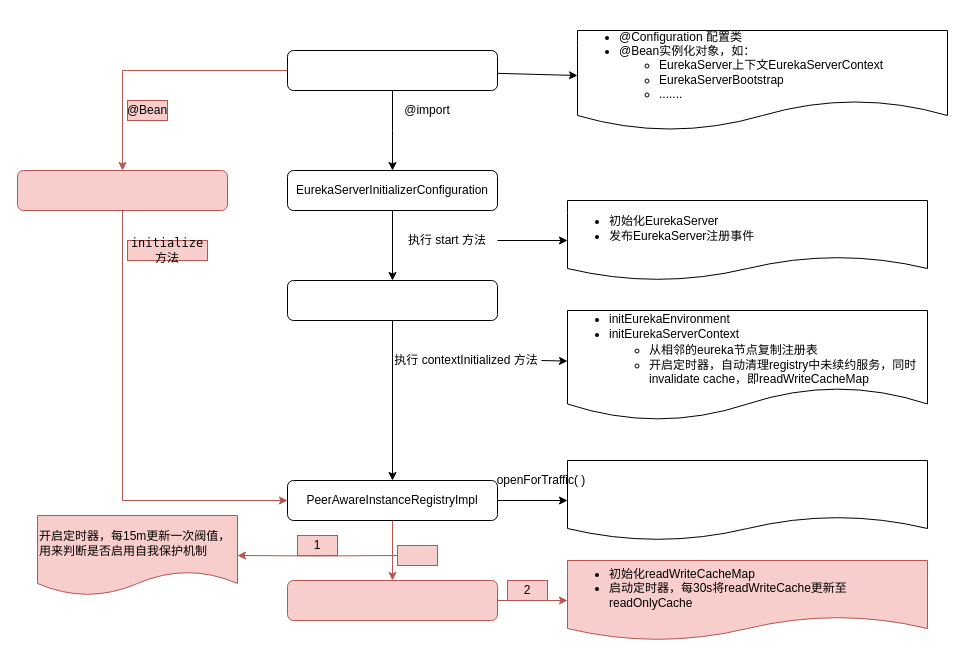
Image size: 965x658. Some labels were removed from this diagram. Here are the shapes that lost their labels. From the top down, the centre of each, then its label:
point (392, 70): EurekaServerAutoConfiguration
point (122, 190): DefaultEurekaServerContext
point (392, 300): EurekaServerBootstrap
point (747, 500): 开启定时器，每60s自动清理registry中未续约服务，同时invalidate cache，即readWriteCacheMap
point (417, 555): init( )
point (392, 600): ResponseCacheImpl
